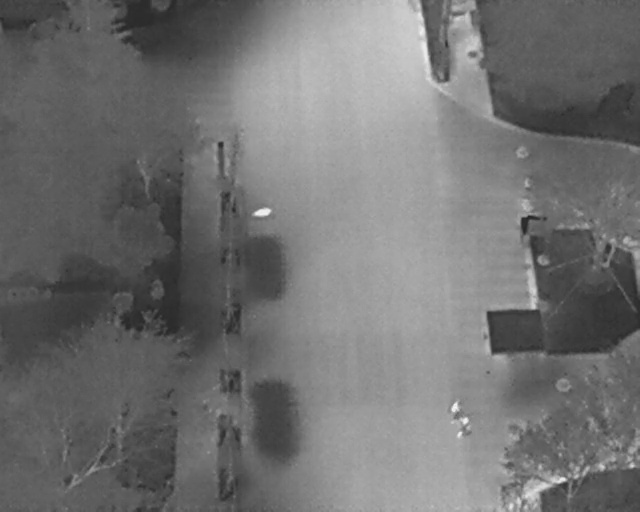Person: (456, 414, 471, 438), (450, 398, 460, 416)
